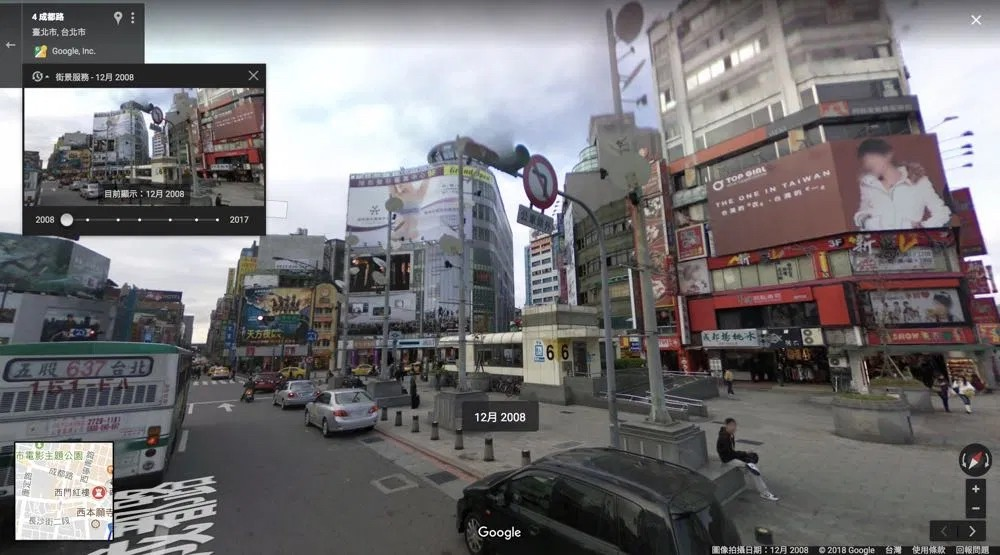people: (716, 412, 771, 503), (930, 372, 957, 413), (951, 378, 976, 417), (238, 369, 255, 405)
